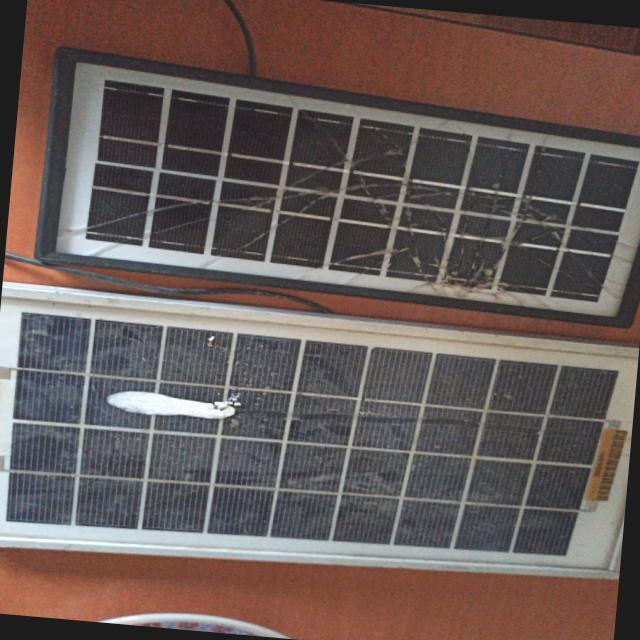faulty: (46, 44, 640, 324)
